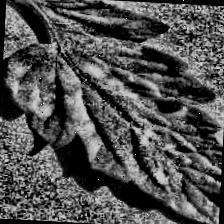leaf mold: (0, 34, 224, 224)
